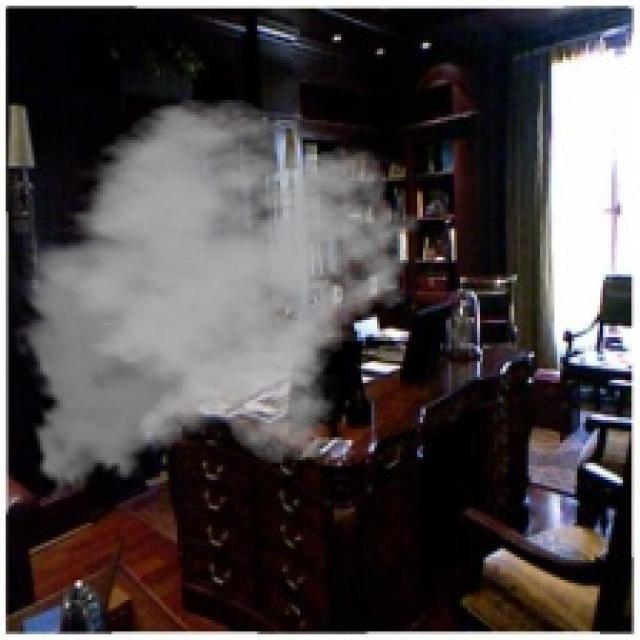smoke: (11, 97, 423, 506)
